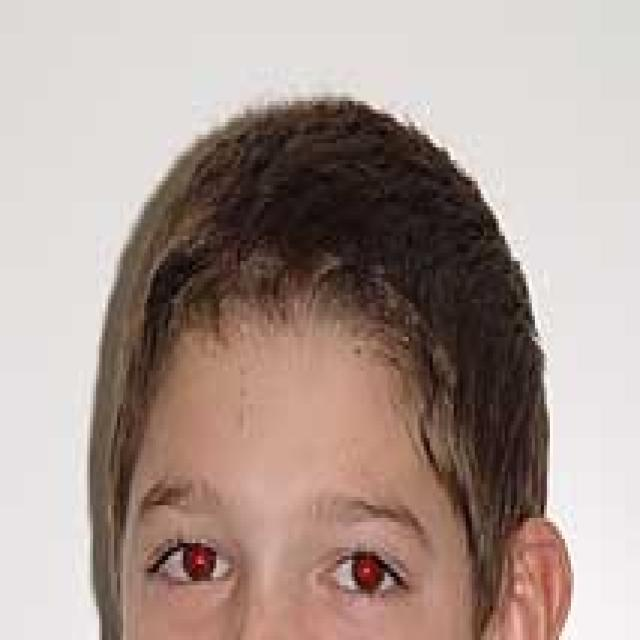reflexo-normal: (313, 508, 420, 614), (141, 514, 239, 614)
